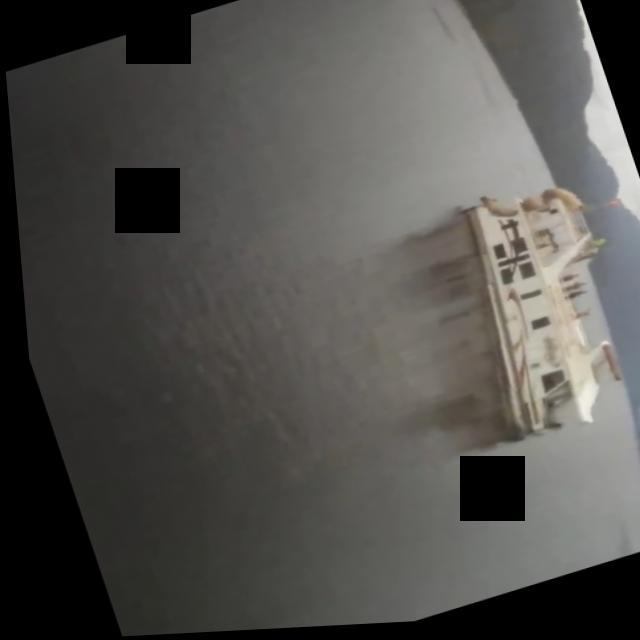Vehicle: (422, 156, 640, 456)
